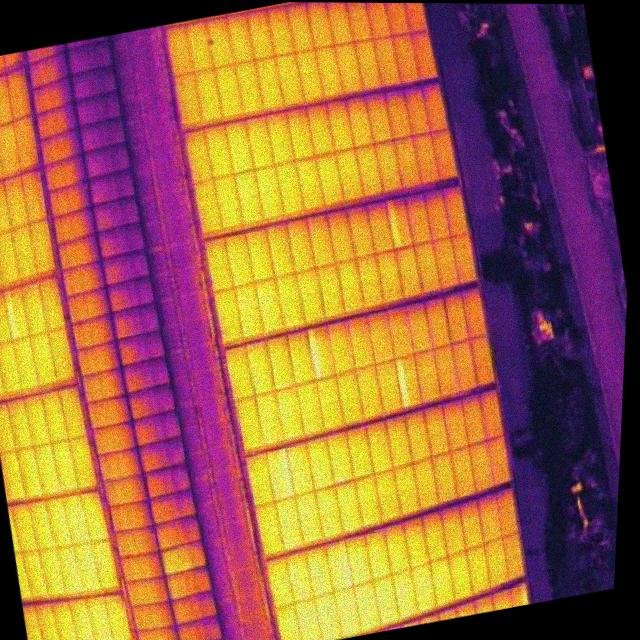Diode: (299, 320, 343, 386), (317, 534, 360, 595), (261, 444, 303, 505), (378, 192, 419, 254), (389, 351, 430, 413), (0, 286, 36, 344)
